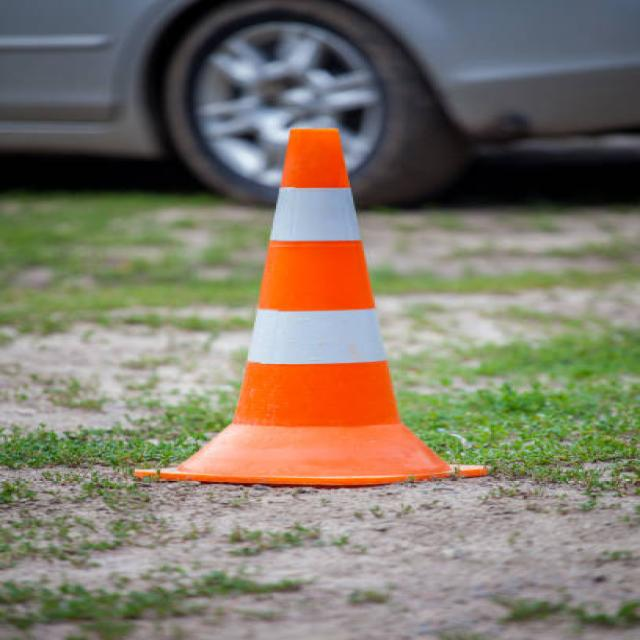Traffic Cone: (133, 61, 500, 511)
